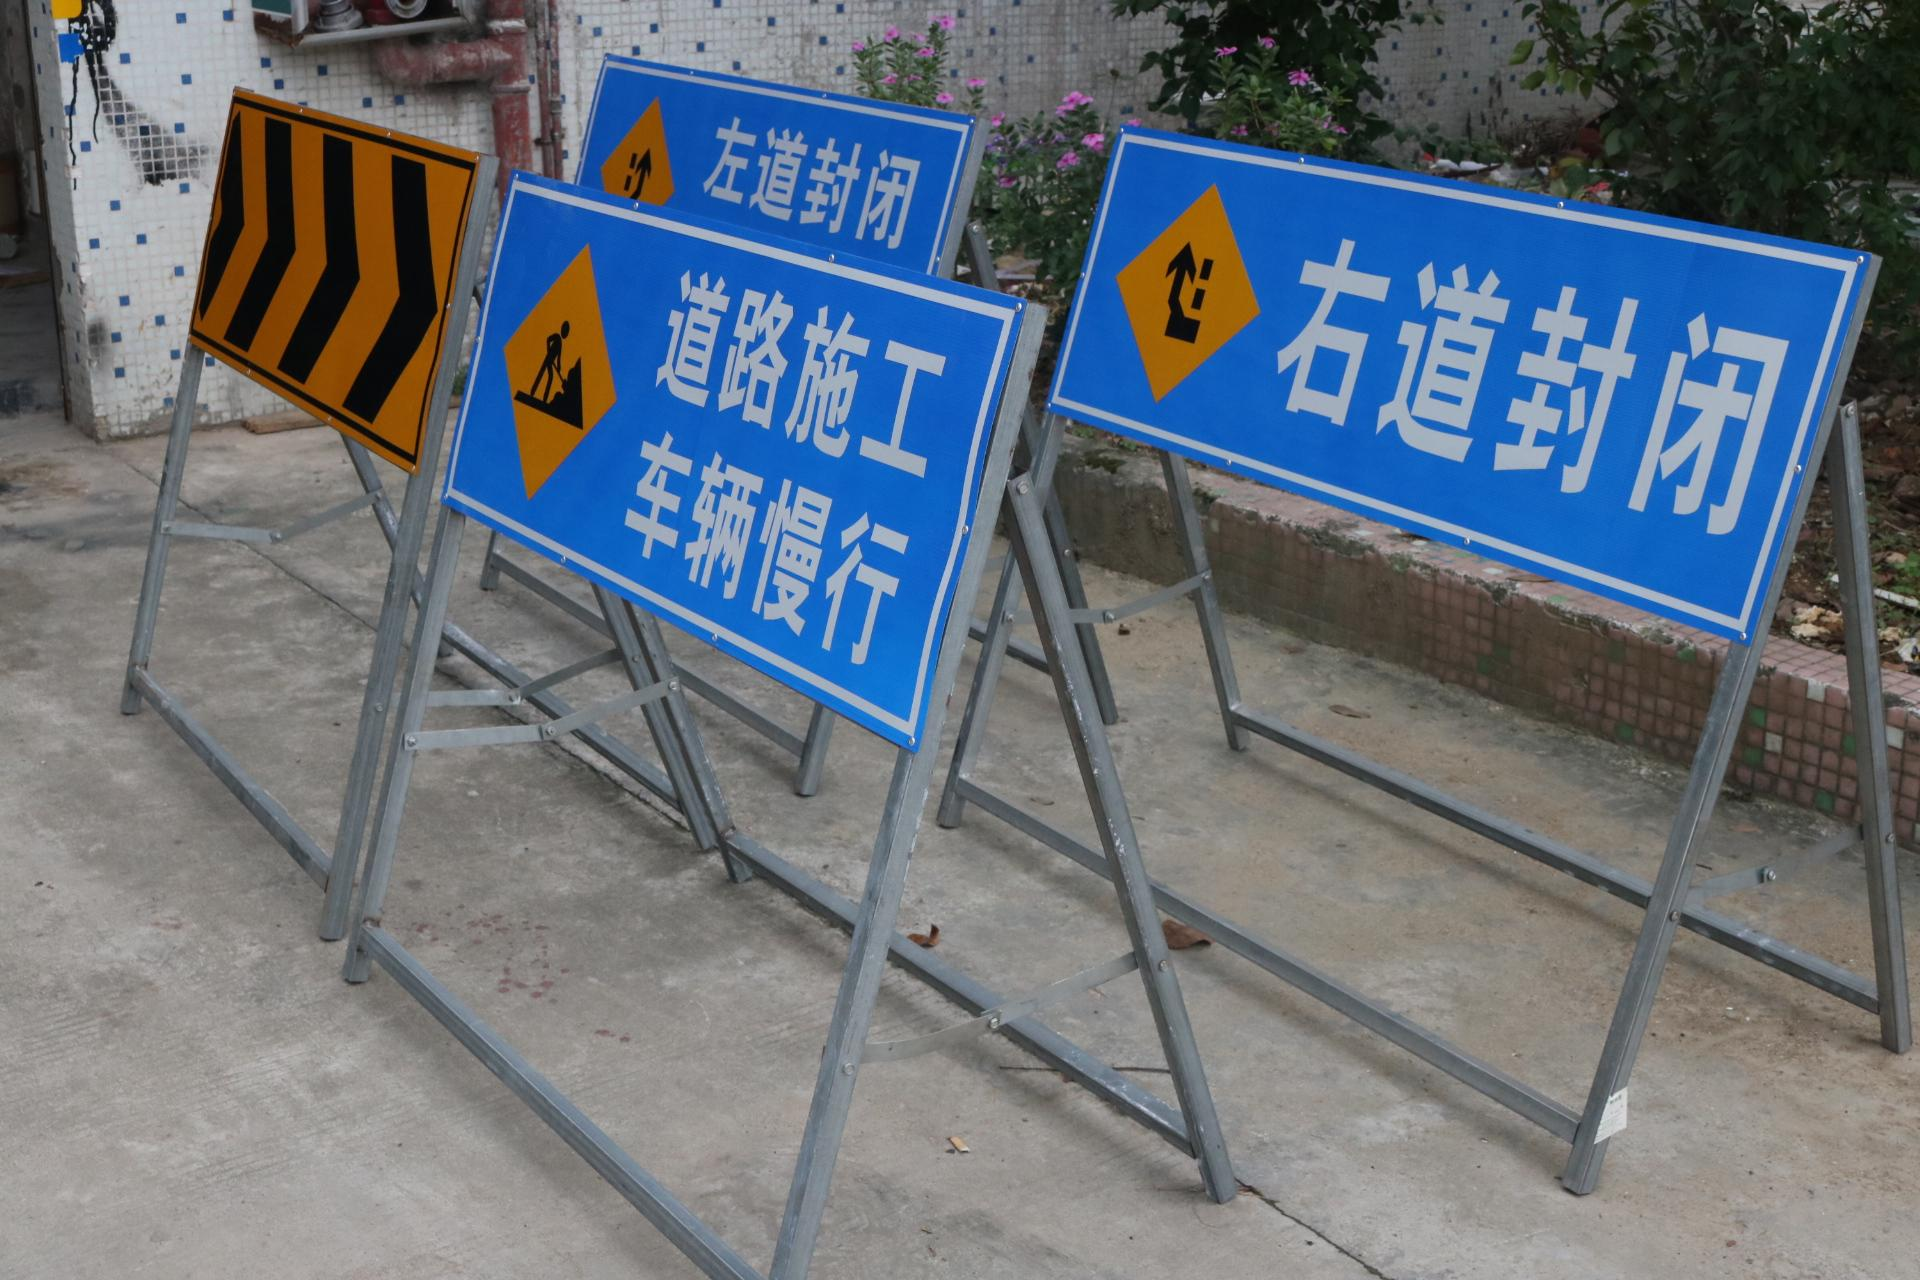sign: (1100, 163, 1801, 631), (490, 241, 959, 746), (200, 107, 430, 441), (587, 74, 953, 231)
